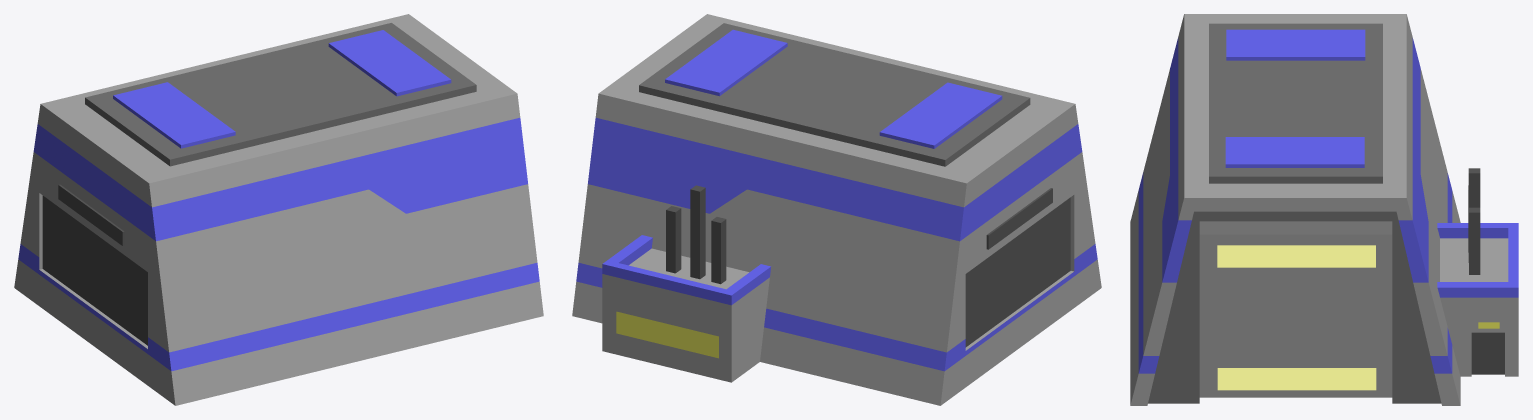
The model's file is Blue Hanger Open.fbx.
3 renders of one model, left to right at view 1: azimuth 30°, elevation 25°; view 2: azimuth 150°, elevation 25°; view 3: azimuth 270°, elevation 25°, orthographic. The views are drawn at different scales.
Parts seen in each view (by area): view 1: Group_18_1; view 2: Group_18_1; view 3: Group_18_1.
Boxes of the visible parts, x1,y1,x2,y2 form: Group_18_1: (14, 14, 543, 405); Group_18_1: (572, 14, 1101, 405); Group_18_1: (1130, 14, 1518, 405).
Size of the model in its own units: 53.46 by 29.48 by 47.45.
